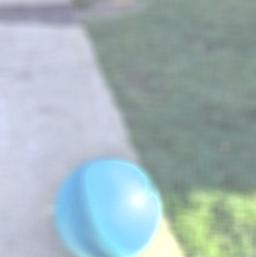algae: (52, 155, 161, 257)
